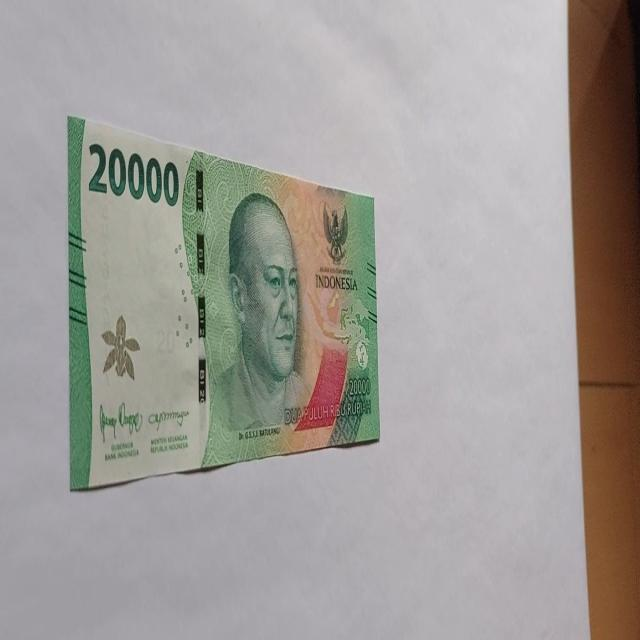dua puluh ribu rupiah: (66, 112, 380, 492)
